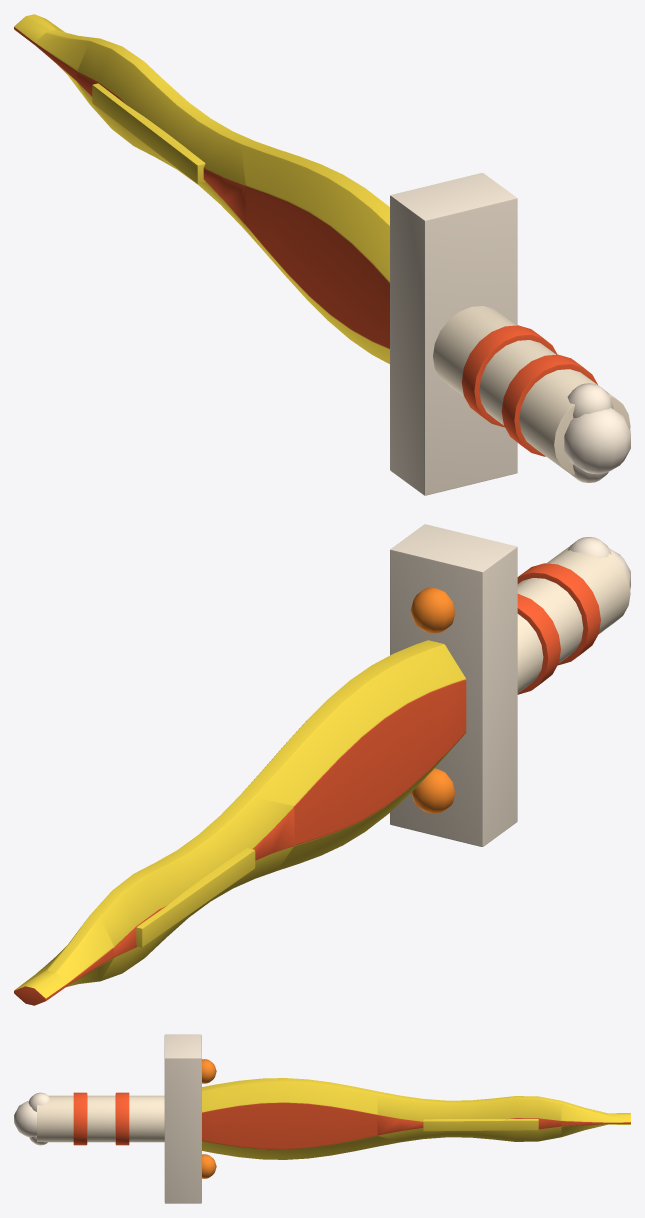
The model's file is Sword_CinderShortsword.glb.
3 renders of one model, top to bottom at view 1: azimuth 30°, elevation 25°; view 2: azimuth 150°, elevation 25°; view 3: azimuth 270°, elevation 25°, orthographic. The views are drawn at different scales.
Parts seen in each view (by area): view 1: Sword_CinderShortsword; view 2: Sword_CinderShortsword; view 3: Sword_CinderShortsword.
Boxes of the visible parts, x1=… form: Sword_CinderShortsword: x1=14, y1=14, x2=630, y2=495; Sword_CinderShortsword: x1=14, y1=524, x2=630, y2=1005; Sword_CinderShortsword: x1=14, y1=1034, x2=630, y2=1203.
Bounding box in the file's own units: 0.0921 × 0.2602 × 1.
Materials: 1 (1 with a texture image).
